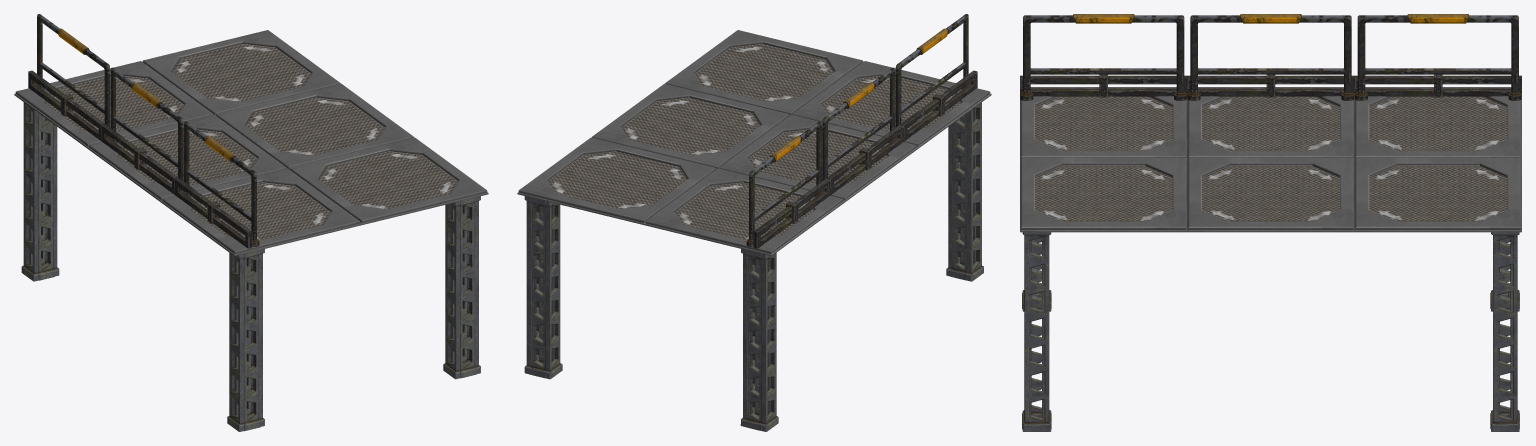
Rendered from SM_Short_Platform.fbx.
3 views of the same model, side by side, from view 1: azimuth 30°, elevation 25°; view 2: azimuth 150°, elevation 25°; view 3: azimuth 270°, elevation 25° (orthographic). The views are drawn at different scales.
Parts seen in each view (by area): view 1: SM_Short_Platform_LOD0; view 2: SM_Short_Platform_LOD0; view 3: SM_Short_Platform_LOD0.
Boxes of the visible parts, x1,y1,x2,y2 form: SM_Short_Platform_LOD0: (14,14,488,431); SM_Short_Platform_LOD0: (517,14,991,431); SM_Short_Platform_LOD0: (1020,14,1521,431).
Size of the model in its own units: 400 by 600 by 385.
Materials: 2 (2 with a texture image).
